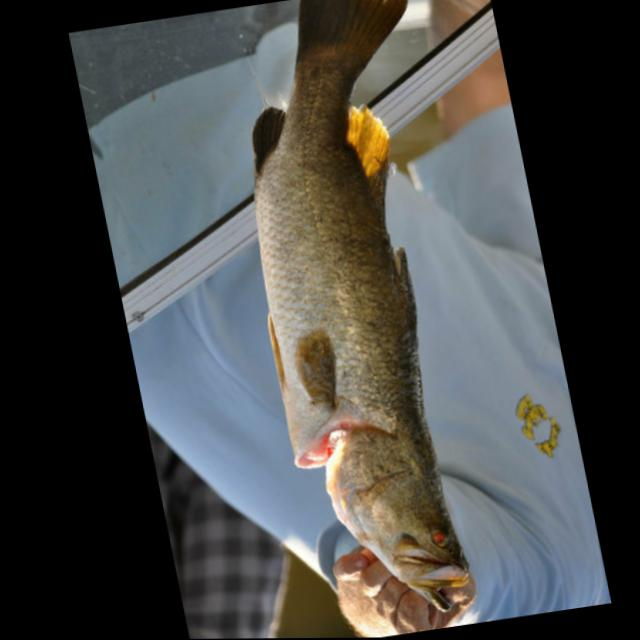Seabass: (203, 0, 531, 632)
